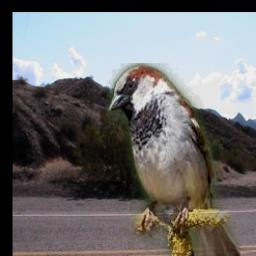Sparrow: (108, 64, 241, 256)
